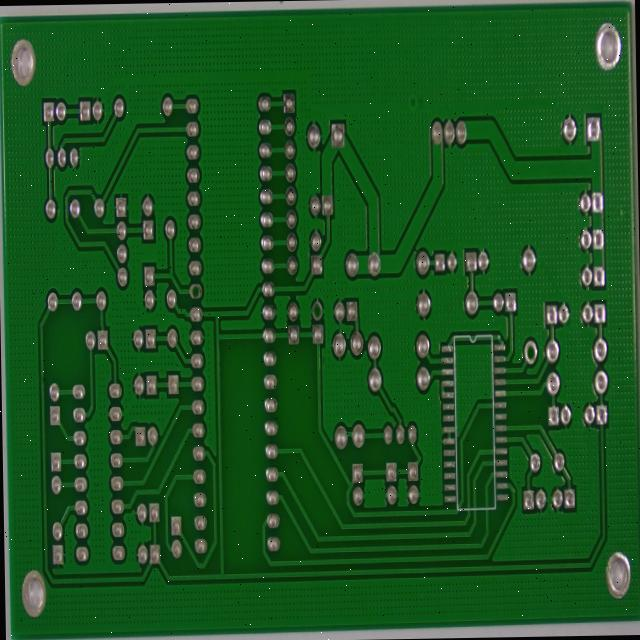missing_hole: (515, 433, 535, 472), (156, 357, 175, 393), (290, 382, 304, 416)
